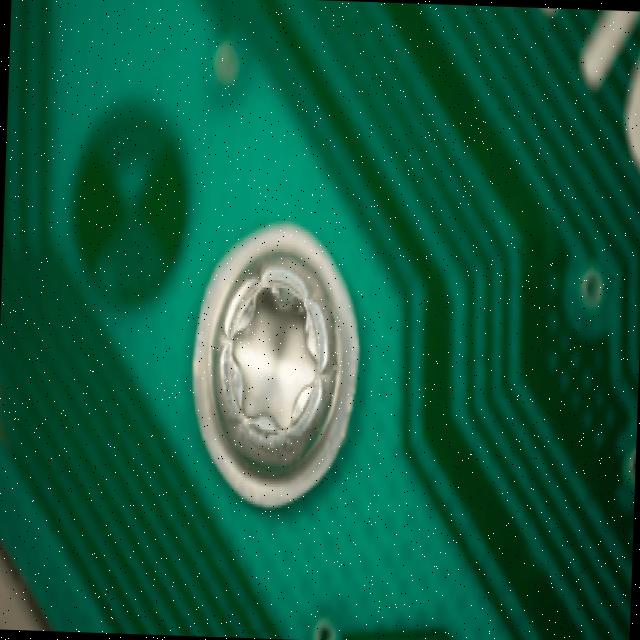Torx: (210, 250, 344, 478)
